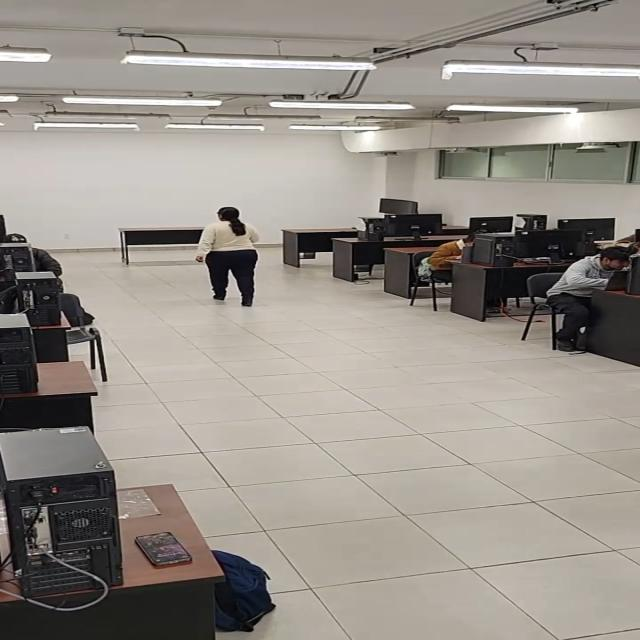Persona: (194, 207, 260, 307)
